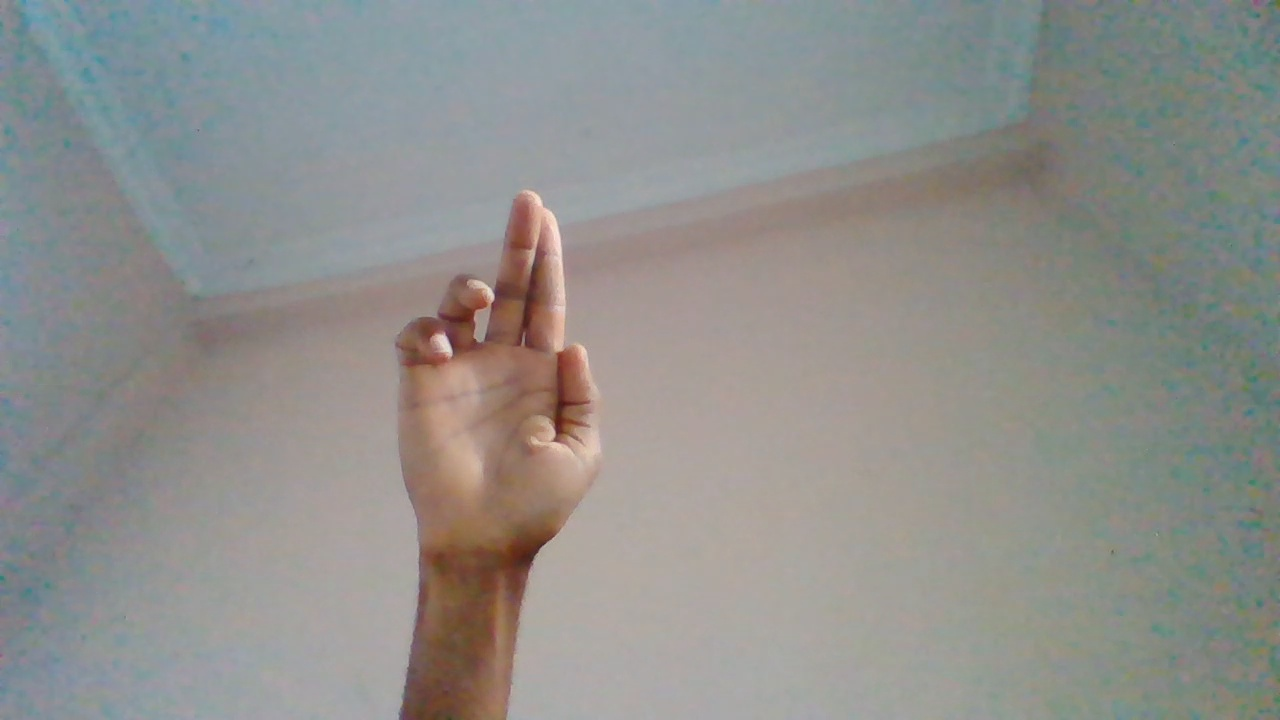gne: (389, 189, 591, 659)
